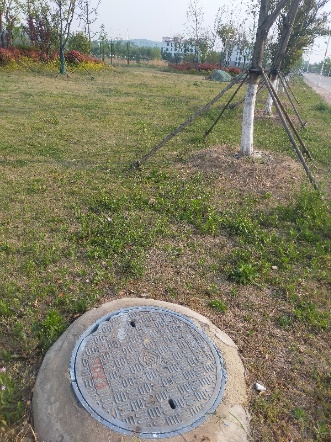good: (67, 304, 225, 442)
